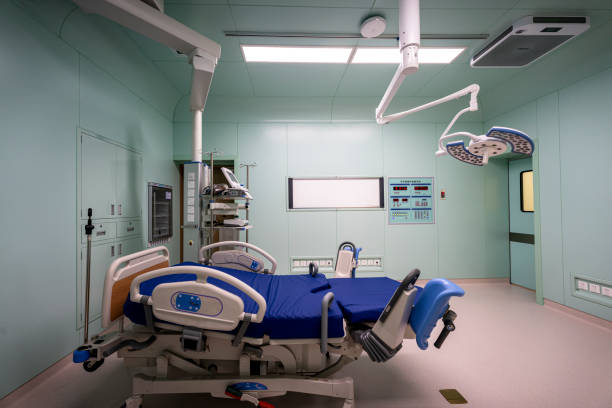bedrail: (128, 266, 266, 332), (199, 239, 280, 275)
bedside_monitor: (226, 166, 252, 193)
cabinet: (148, 182, 178, 242)
handle: (153, 193, 158, 239), (112, 244, 117, 257), (120, 242, 125, 255), (98, 230, 108, 236), (126, 227, 136, 233), (111, 204, 116, 216), (119, 204, 124, 216)
hospital_bed: (72, 238, 467, 408)
iv_pole: (238, 160, 257, 255), (200, 149, 213, 259)
surgical_light: (443, 126, 535, 169)
